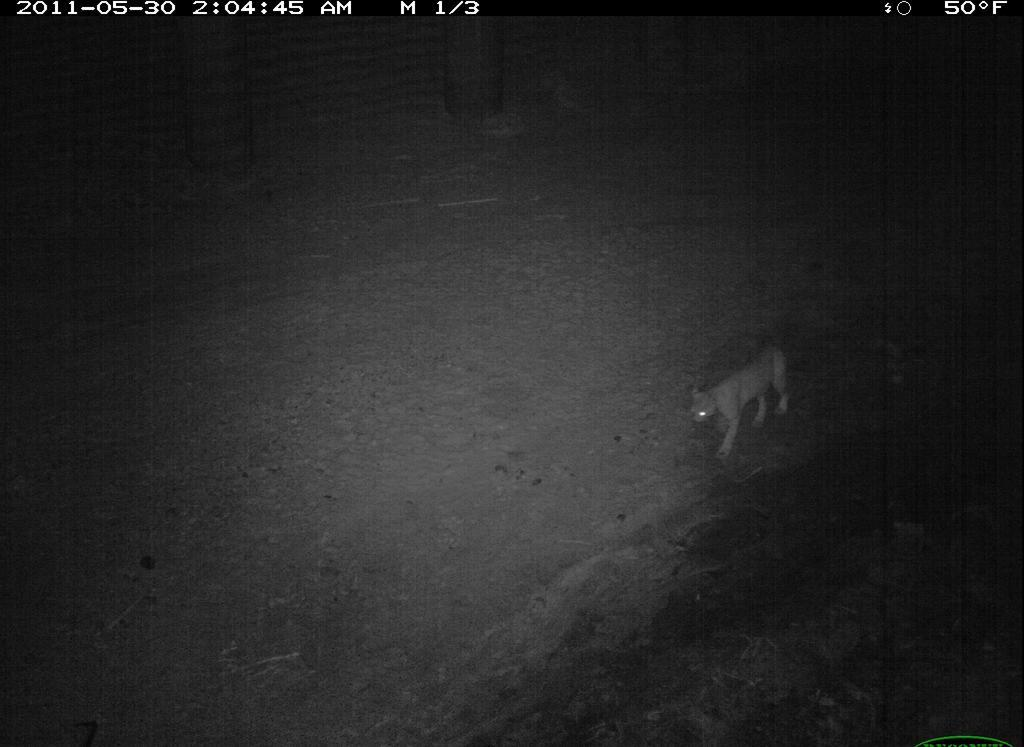bobcat: (679, 333, 799, 466)
